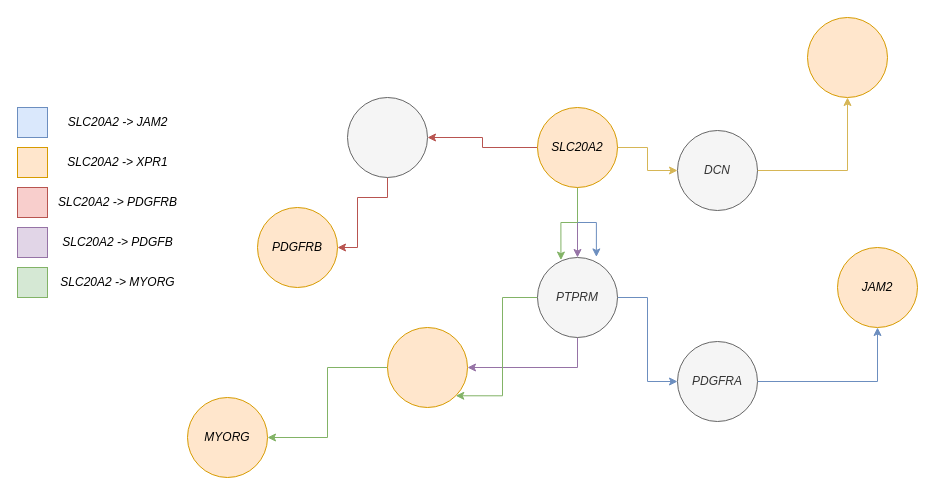
This 935x495 diagram has some shape labels left out. The box of each missing label's shape, as (x1, y1, x2, y2) in pixels:
MEIS1: (346, 96, 428, 178)
PDGFB: (386, 326, 468, 408)
XPR1: (806, 16, 888, 98)
